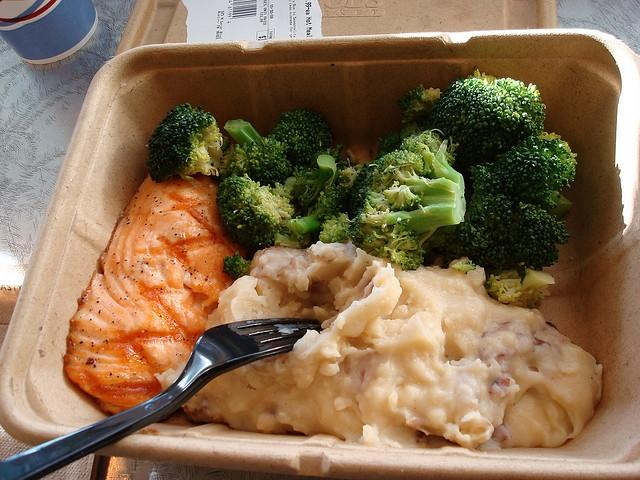broccoli: (447, 132, 578, 276), (346, 128, 466, 270), (416, 69, 546, 174), (216, 173, 299, 250), (146, 103, 224, 182), (218, 119, 293, 183), (292, 142, 348, 211), (271, 108, 333, 164), (484, 267, 556, 309), (284, 191, 334, 242), (319, 211, 373, 247), (397, 84, 442, 124), (222, 250, 250, 281), (338, 166, 362, 190)
